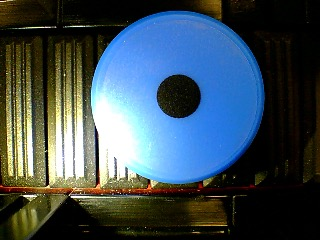BOHO: (91, 10, 265, 184)
